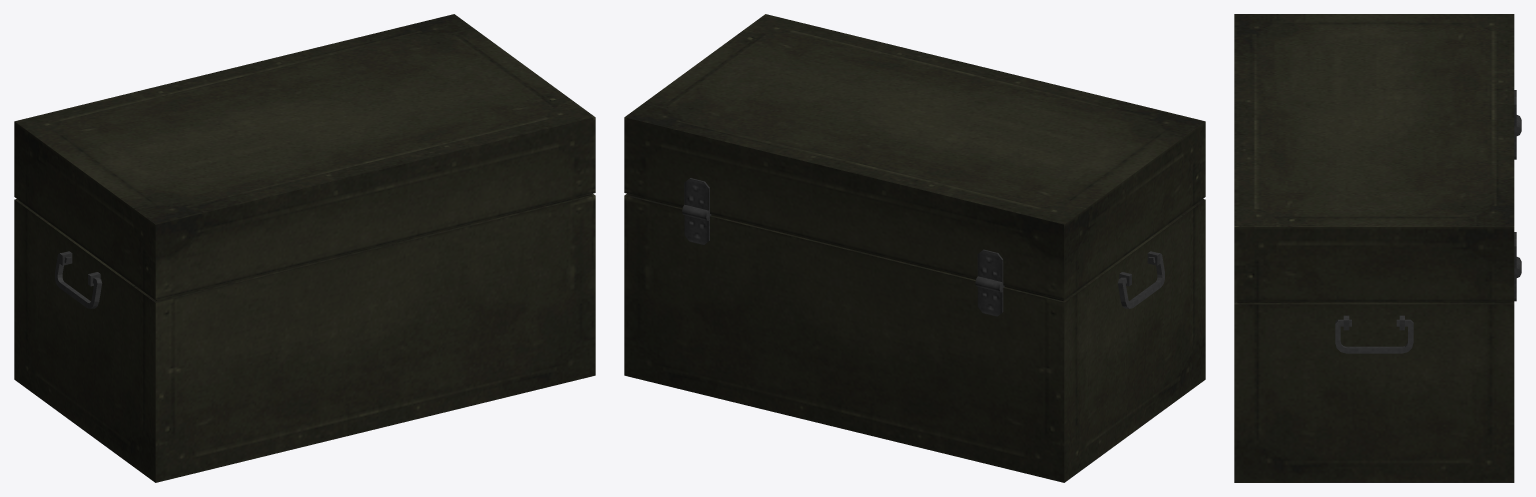
The model's file is wooden_crate_2_a.obj.
The picture shows the model from 3 angles, left to right: view 1: azimuth 30°, elevation 25°; view 2: azimuth 150°, elevation 25°; view 3: azimuth 270°, elevation 25°; orthographic projection.
Parts seen in each view (by area): view 1: wooden_crate_2_a, wooden_crate_2_a_lid; view 2: wooden_crate_2_a, wooden_crate_2_a_lid; view 3: wooden_crate_2_a_lid, wooden_crate_2_a.
Part boxes in pixels (x1,y1,x2,y2): wooden_crate_2_a: [14, 193, 595, 482]; wooden_crate_2_a_lid: [14, 14, 595, 300]; wooden_crate_2_a: [624, 193, 1205, 482]; wooden_crate_2_a_lid: [624, 14, 1205, 300]; wooden_crate_2_a_lid: [1234, 14, 1516, 303]; wooden_crate_2_a: [1234, 115, 1521, 482].
Bounding box in the file's own units: 0.9492 × 0.505 × 0.513.
